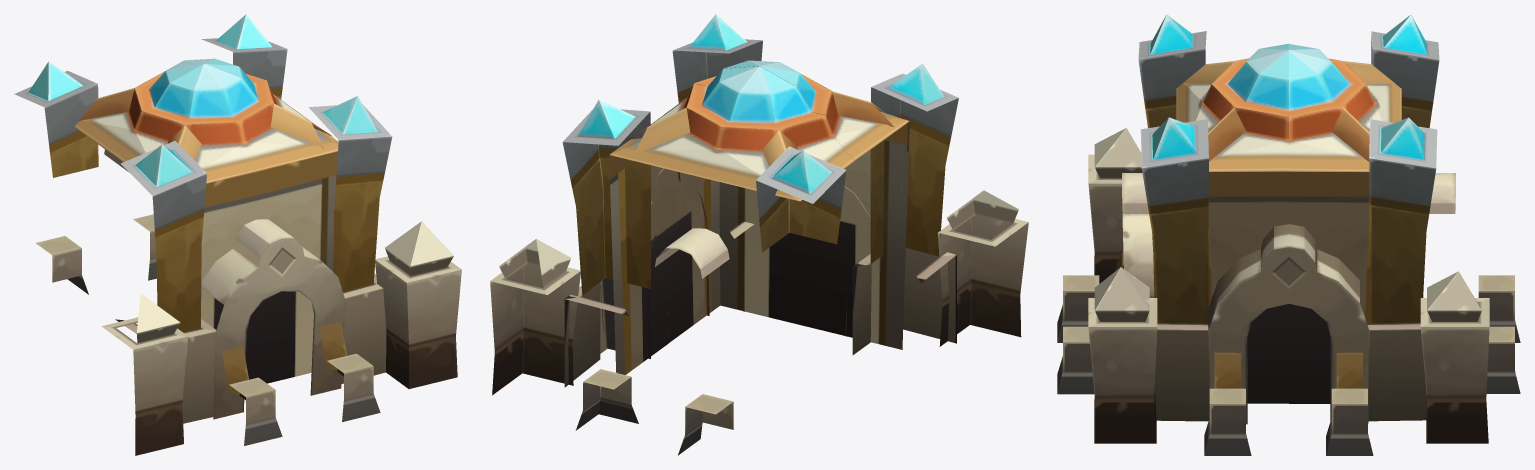
File: B_Cityhall01.fbx
3 views of the same model, side by side, from view 1: azimuth 30°, elevation 25°; view 2: azimuth 150°, elevation 25°; view 3: azimuth 270°, elevation 25° (orthographic). The views are drawn at different scales.
Parts seen in each view (by area): view 1: B_Cityhall01_01; view 2: B_Cityhall01_01; view 3: B_Cityhall01_01.
Part boxes in pixels (x1,y1,x2,y2): B_Cityhall01_01: [14, 14, 461, 455]; B_Cityhall01_01: [490, 14, 1028, 455]; B_Cityhall01_01: [1057, 14, 1520, 455].
Bounding box in the file's own units: 6.88 × 5.38 × 7.32.
Materials: 1 (1 with a texture image).
